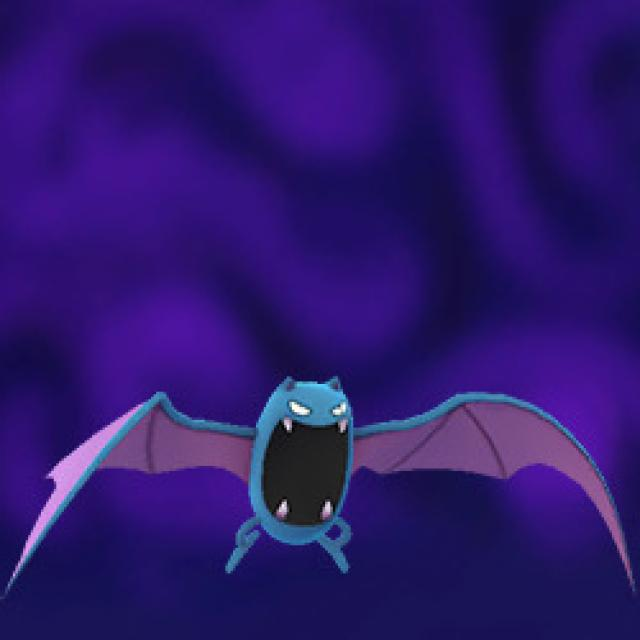Golbat: (134, 375, 459, 578)
